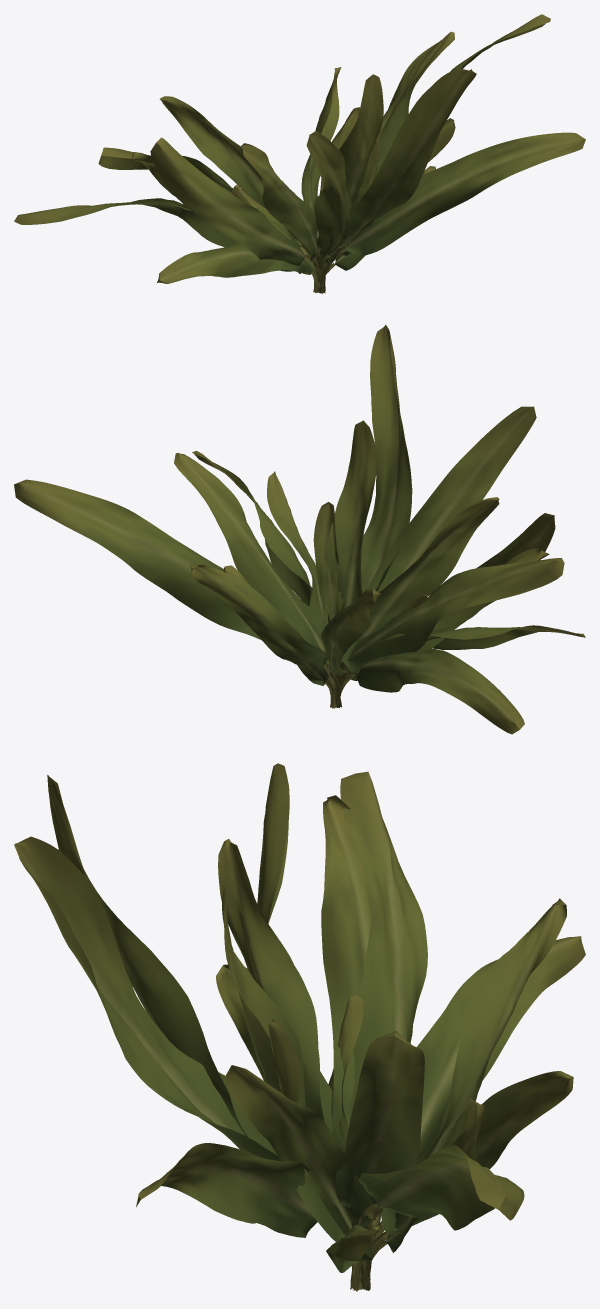
Rendered from pianta-cryptocoryne.glb.
The picture shows the model from 3 angles, top to bottom: view 1: azimuth 30°, elevation 25°; view 2: azimuth 150°, elevation 25°; view 3: azimuth 270°, elevation 25°; orthographic projection. The views are drawn at different scales.
Visible parts, largest first — view 1: foglia_13, foglia_14, foglia_16, foglia_15, foglia_8, foglia_17, foglia_4, foglia_2, foglia_18, foglia_0, foglia_10, foglia_7 (+7 smaller); view 2: foglia_11, foglia_14, foglia_15, foglia_7, foglia_0, foglia_18, foglia_2, foglia_4, foglia_10, foglia_13, foglia_8, foglia_1 (+5 smaller); view 3: foglia_14, foglia_7, foglia_0, foglia_6, foglia_13, foglia_8, foglia_1, foglia_4, foglia_11, foglia_15, foglia_18, foglia_10 (+7 smaller).
Boxes of the visible parts, bbox=[...] form: foglia_13: bbox=[344, 132, 585, 256]; foglia_14: bbox=[338, 68, 476, 247]; foglia_16: bbox=[150, 137, 305, 271]; foglia_15: bbox=[306, 131, 351, 261]; foglia_8: bbox=[160, 96, 266, 208]; foglia_17: bbox=[157, 243, 303, 283]; foglia_4: bbox=[238, 143, 318, 261]; foglia_2: bbox=[317, 74, 383, 250]; foglia_18: bbox=[14, 198, 238, 247]; foglia_0: bbox=[377, 31, 454, 166]; foglia_10: bbox=[301, 67, 341, 241]; foglia_7: bbox=[98, 147, 296, 239]; foglia_11: bbox=[14, 479, 298, 640]; foglia_14: bbox=[361, 324, 412, 594]; foglia_15: bbox=[367, 406, 536, 592]; foglia_7: bbox=[341, 558, 564, 673]; foglia_0: bbox=[174, 453, 325, 652]; foglia_18: bbox=[354, 649, 524, 734]; foglia_2: bbox=[327, 420, 376, 608]; foglia_4: bbox=[356, 497, 499, 640]; foglia_10: bbox=[189, 564, 327, 673]; foglia_13: bbox=[192, 450, 330, 622]; foglia_8: bbox=[321, 588, 381, 674]; foglia_1: bbox=[267, 471, 328, 662]; foglia_14: bbox=[14, 836, 280, 1161]; foglia_7: bbox=[340, 771, 427, 1127]; foglia_0: bbox=[335, 1030, 424, 1207]; foglia_6: bbox=[321, 795, 371, 1152]; foglia_13: bbox=[136, 1143, 317, 1237]; foglia_8: bbox=[415, 898, 566, 1164]; foglia_1: bbox=[225, 1065, 375, 1241]; foglia_4: bbox=[218, 839, 324, 1121]; foglia_11: bbox=[359, 1145, 524, 1230]; foglia_15: bbox=[47, 775, 248, 1137]; foglia_18: bbox=[417, 936, 585, 1153]; foglia_10: bbox=[381, 1071, 573, 1234].
Size of the model in its own units: 0.4737 by 0.2519 by 0.2652.
